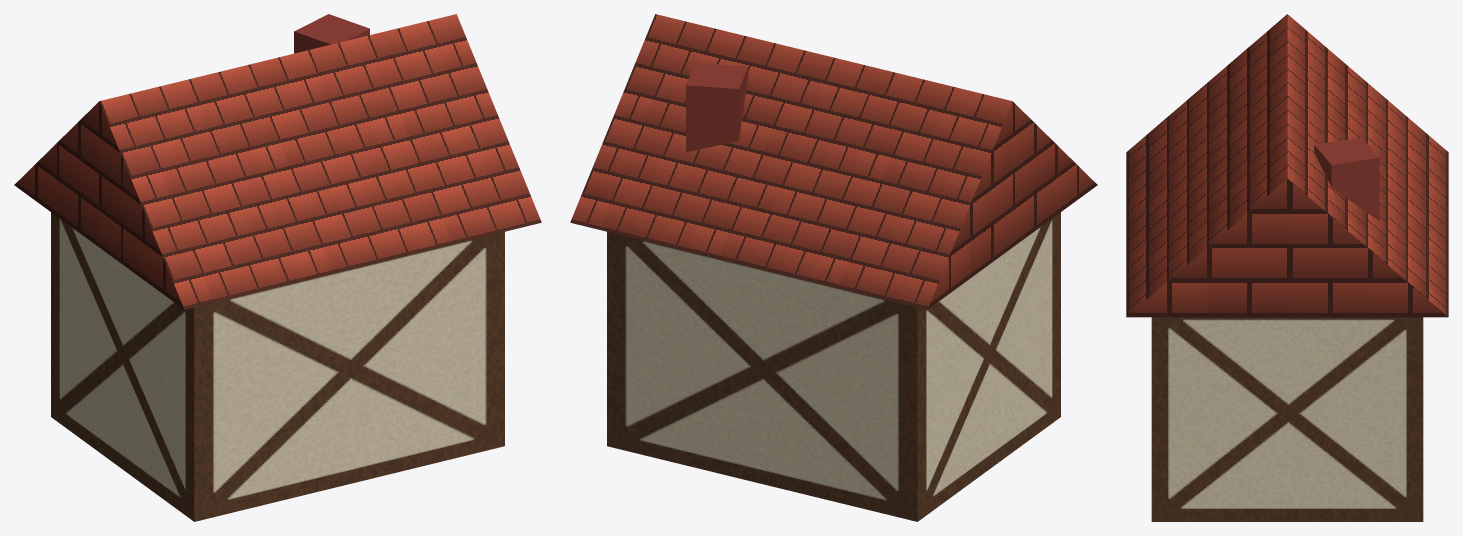
File: house.glb
3 views of the same model, side by side, from view 1: azimuth 30°, elevation 25°; view 2: azimuth 150°, elevation 25°; view 3: azimuth 270°, elevation 25° (orthographic). The views are drawn at different scales.
Parts seen in each view (by area): view 1: House, Roof, Chimney; view 2: House, Roof, Chimney; view 3: Roof, House, Chimney.
Part boxes in pixels (left/top/right/bottom): House: left=51, top=212, right=504, bottom=521; Roof: left=14, top=14, right=541, bottom=309; Chimney: left=294, top=14, right=369, bottom=53; House: left=607, top=212, right=1060, bottom=521; Roof: left=570, top=14, right=1097, bottom=309; Chimney: left=686, top=63, right=748, bottom=152; Roof: left=1126, top=14, right=1448, bottom=317; House: left=1151, top=317, right=1423, bottom=521; Chimney: left=1314, top=137, right=1379, bottom=220.
Bounding box in the file's own units: 2.3 × 2.3 × 1.9.
3 materials, 2 textured.
